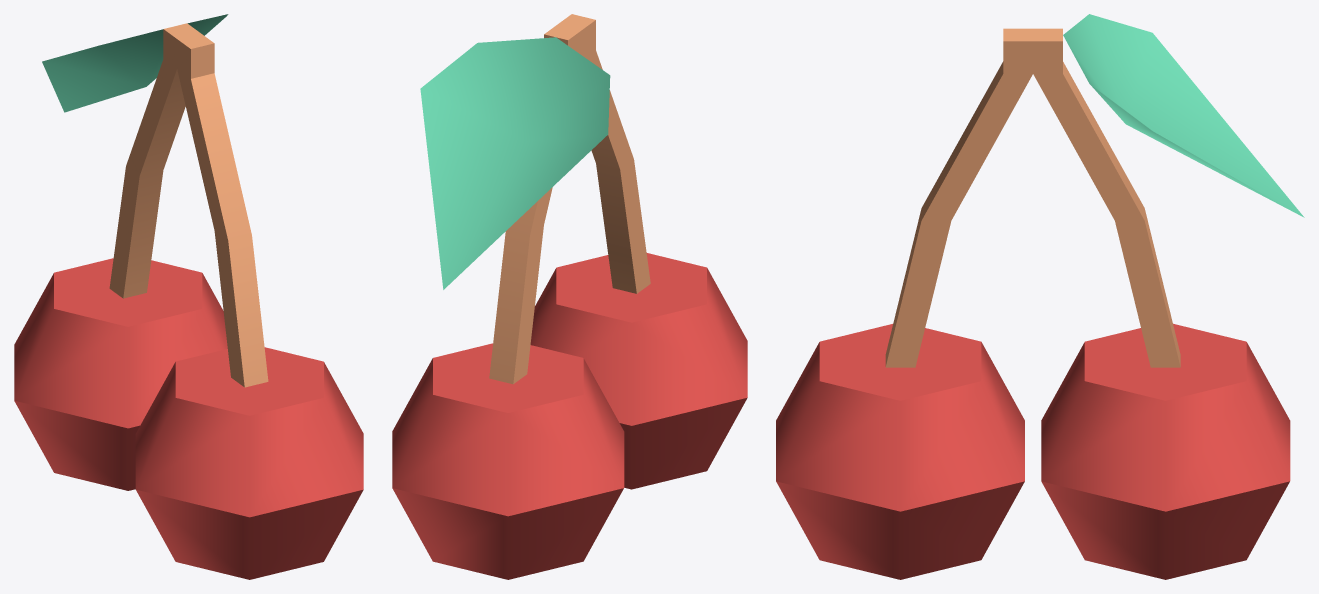
The model's file is cherries.glb.
3 views of the same model, side by side, from view 1: azimuth 30°, elevation 25°; view 2: azimuth 150°, elevation 25°; view 3: azimuth 270°, elevation 25° (orthographic). The views are drawn at different scales.
Visible parts, largest first — view 1: cherries; view 2: cherries; view 3: cherries.
Part boxes in pixels (x1,y1,x2,y2): cherries: (14,14,363,579); cherries: (392,14,747,579); cherries: (776,14,1304,579).
Bounding box in the file's own units: 0.088 × 0.1707 × 0.1619.
